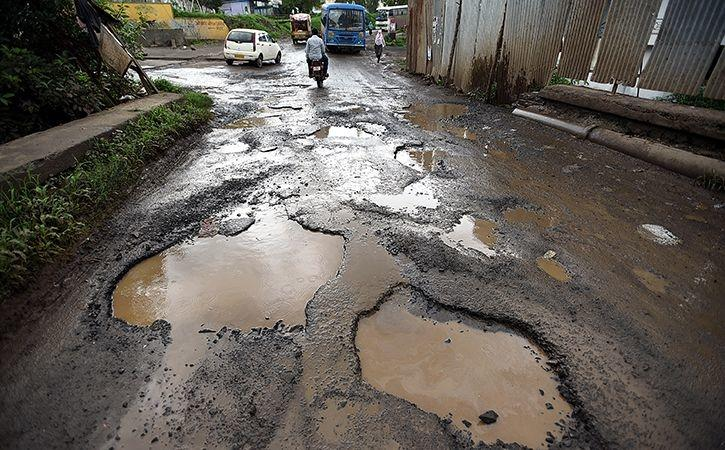pothole: (129, 177, 372, 359), (347, 283, 560, 447), (443, 196, 543, 256), (385, 77, 477, 123), (394, 137, 464, 197)
